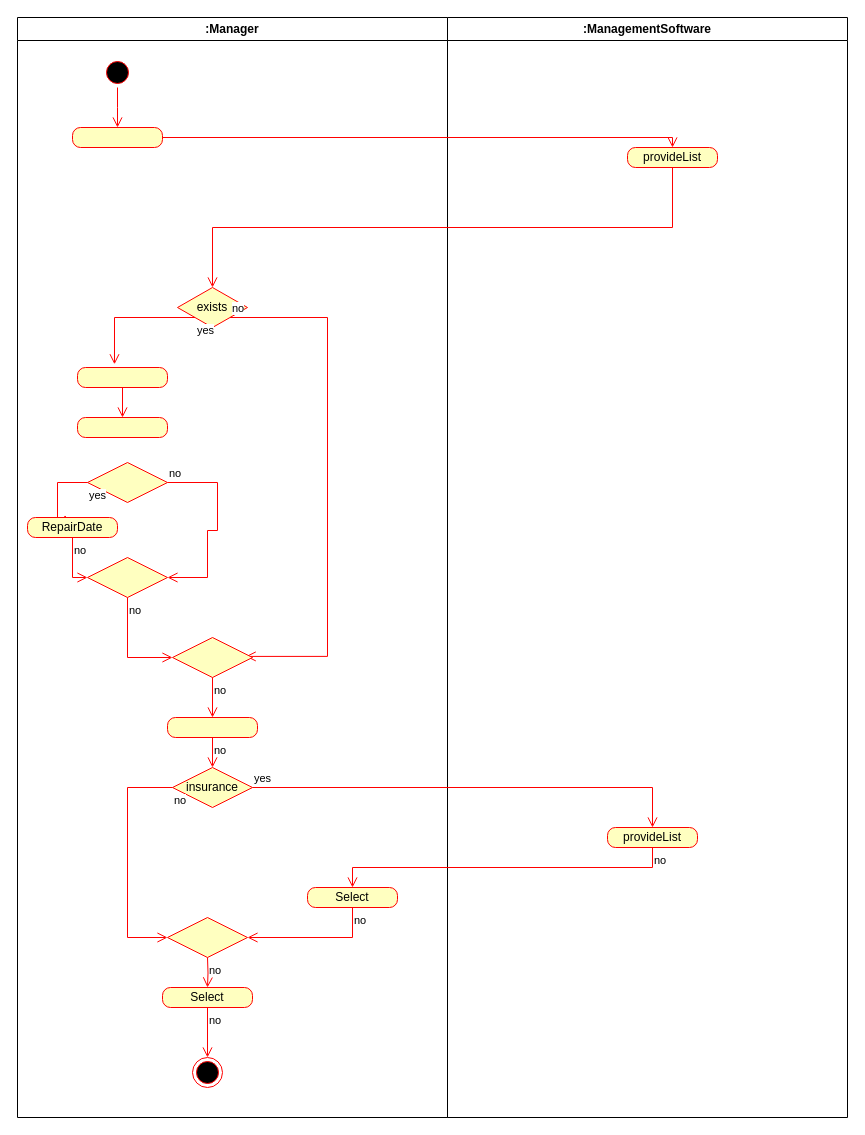
Some shapes in this 865 by 1135 pixel diagram are drawn without their labels. The shapes that lost their labels are listed below. From the top down, each one's centre as x and y in pixels, then its label:
the point at 117,137: SearchCar
the point at 122,377: SelectCar
the point at 122,427: provideInfo
the point at 127,482: Warranty
the point at 212,727: AddDates
